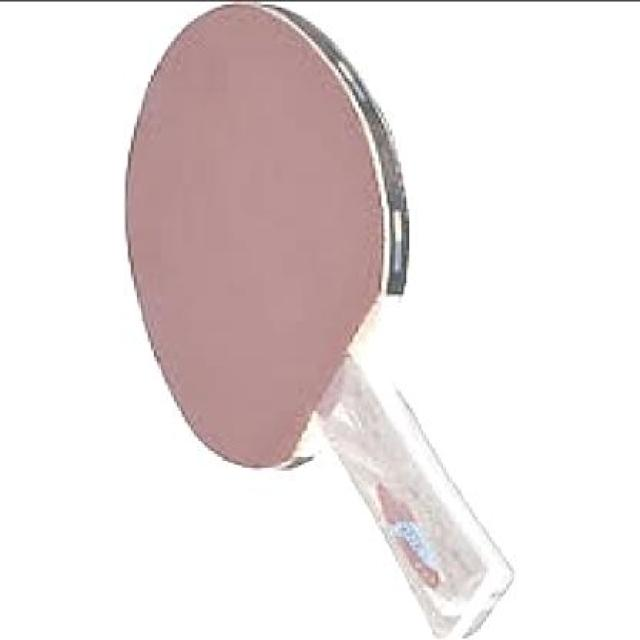table_tennis_racket: (118, 0, 416, 474)
